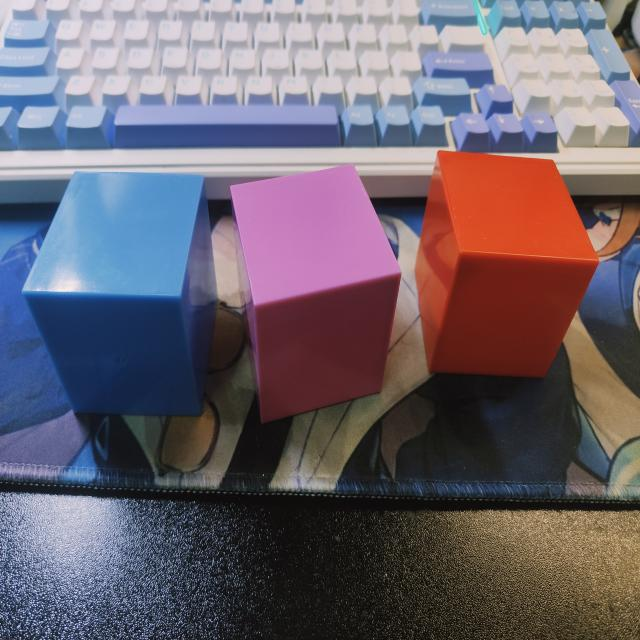blue: (21, 168, 218, 421)
pink: (229, 167, 401, 425)
red: (417, 151, 598, 380)
